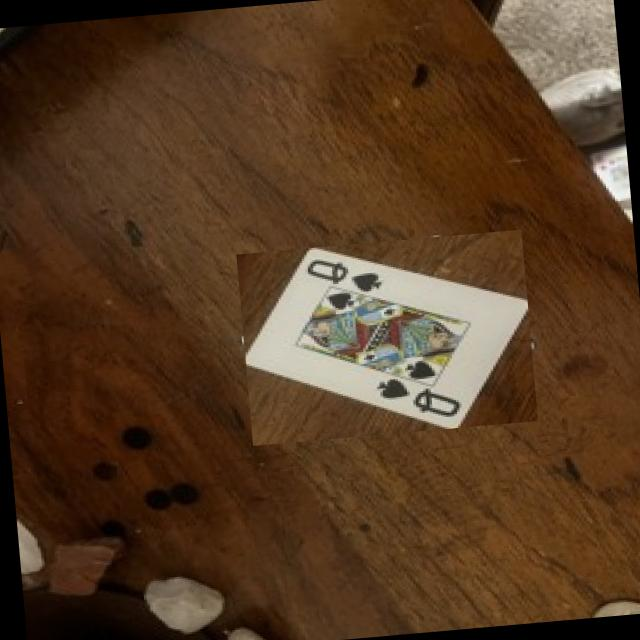Queen of spades: (245, 246, 527, 426)
